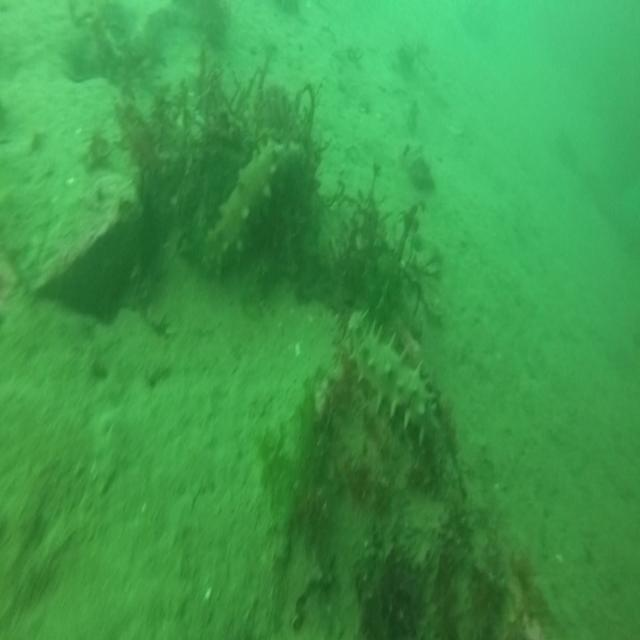holothurian: (199, 142, 304, 270), (340, 316, 441, 442)
